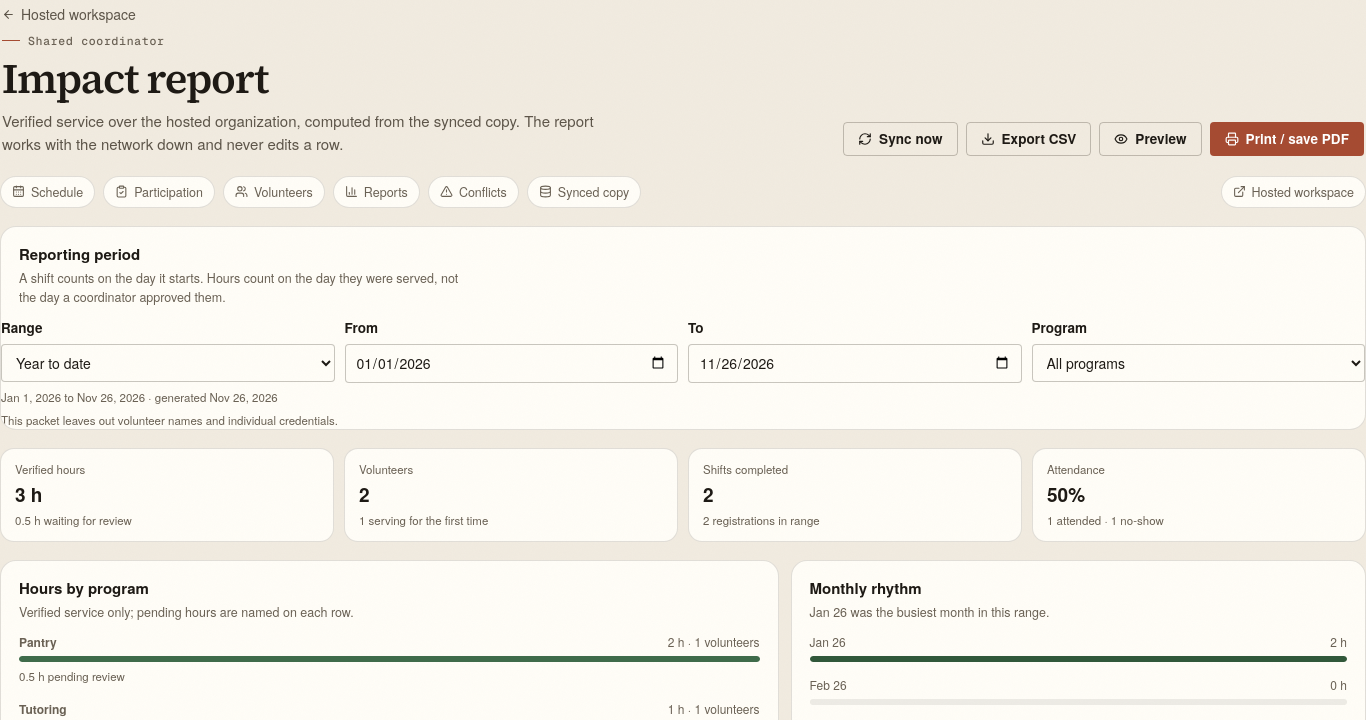
Test: shared impact report › splits a measured packet into one sheet per Letter page
The width and height of the screenshot is (1366, 720).
Click the button "Preview" at x=1150, y=139, box [1099,122,1202,156]
(page scrolled)
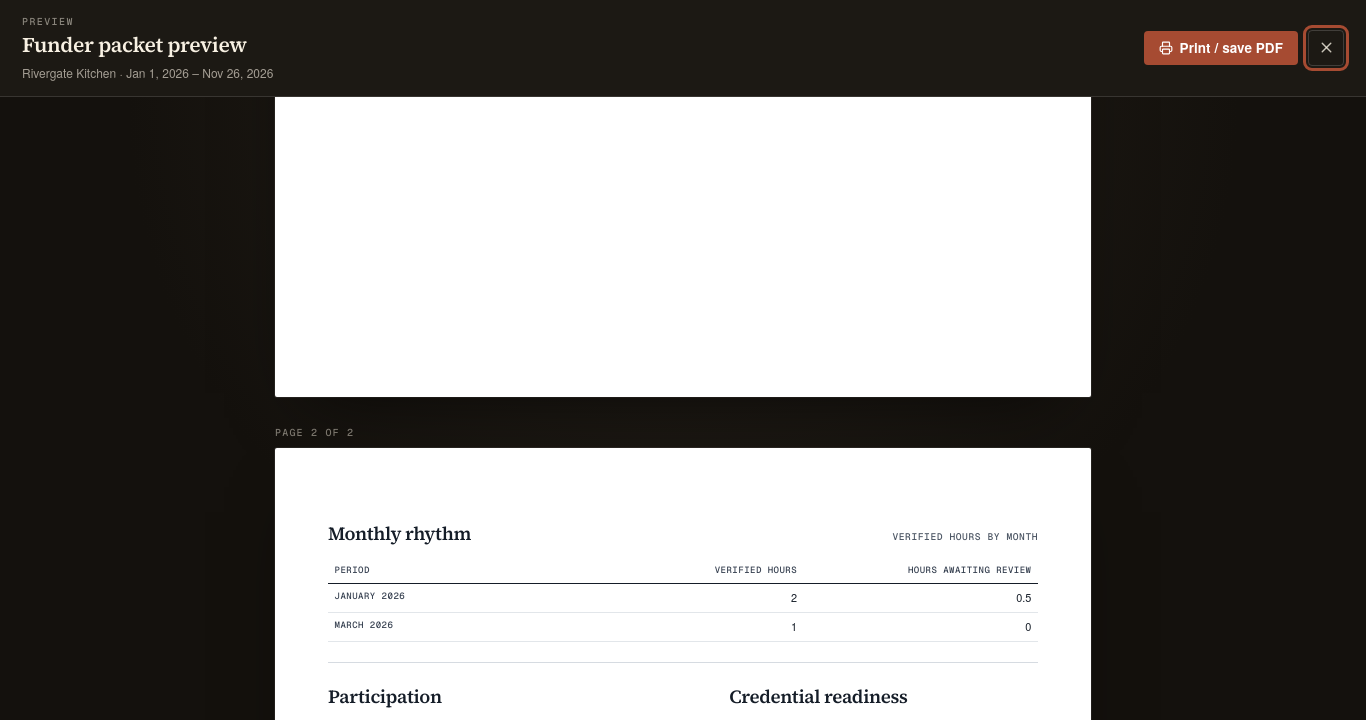
expect the text "Page 2 of 2" is shown: met, box [275,426,354,438]
